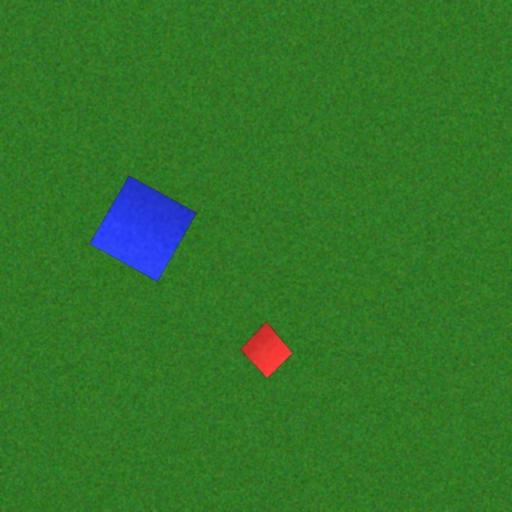BLUE_SQUARE: (88, 174, 198, 282)
RED_SQUARE: (240, 321, 294, 379)
